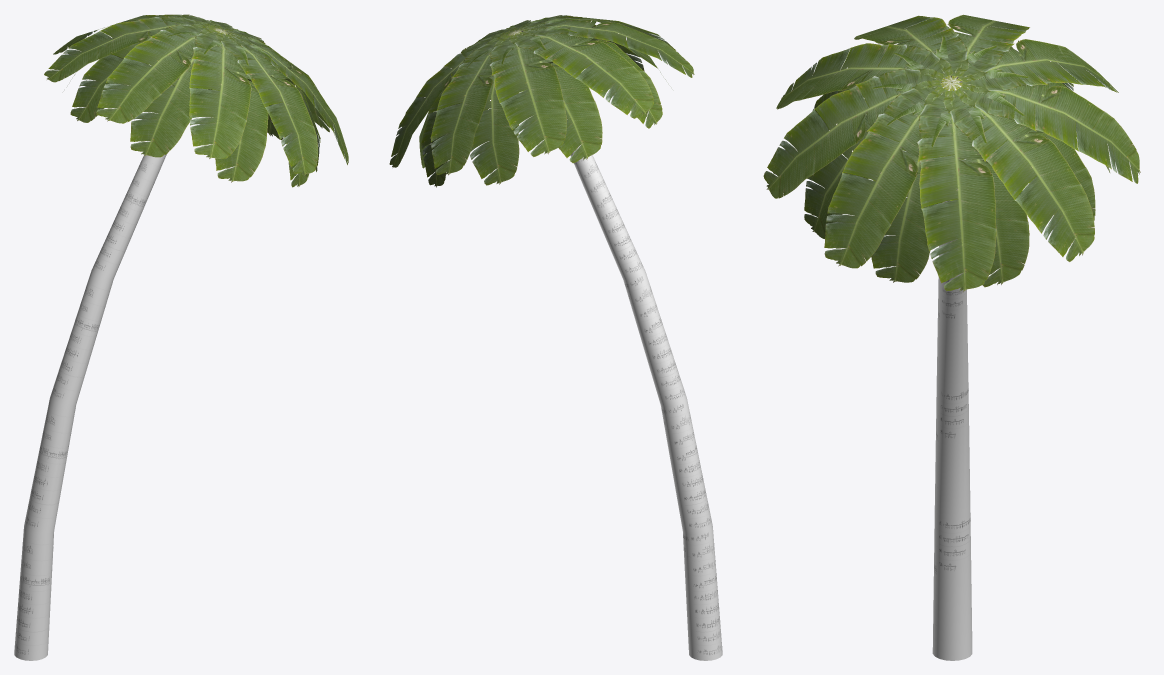
The model's file is Palmera.FBX.
The picture shows the model from 3 angles, left to right: view 1: azimuth 30°, elevation 25°; view 2: azimuth 150°, elevation 25°; view 3: azimuth 270°, elevation 25°; orthographic projection. The views are drawn at different scales.
Visible parts, largest first — view 1: Hojas, Tronco; view 2: Hojas, Tronco; view 3: Hojas, Tronco.
Part boxes in pixels (x1,y1,x2,y2): Hojas: (44, 14, 348, 187); Tronco: (14, 29, 225, 660); Hojas: (389, 15, 694, 187); Tronco: (514, 31, 722, 660); Hojas: (763, 14, 1140, 292); Tronco: (932, 80, 972, 660).
Bounding box in the file's own units: 83.58 × 150 × 77.94.
Materials: 3 (3 with a texture image).
